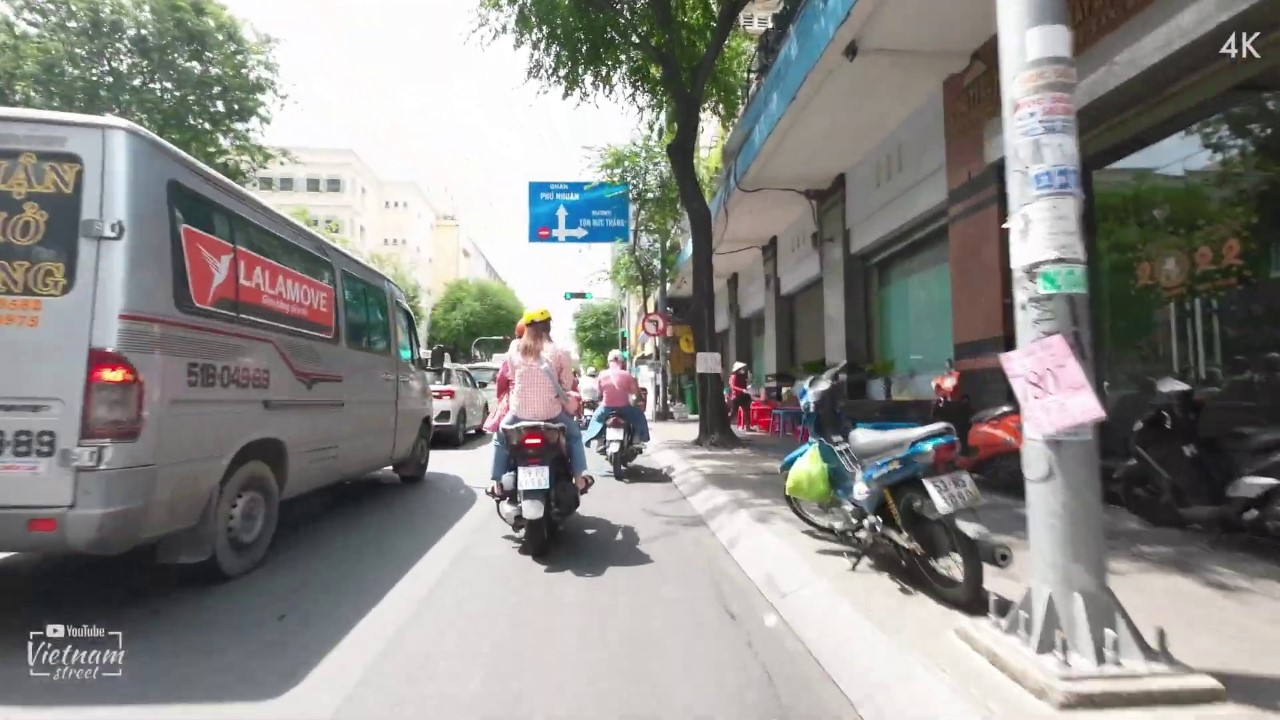cam_re_trai: (641, 312, 668, 337)
